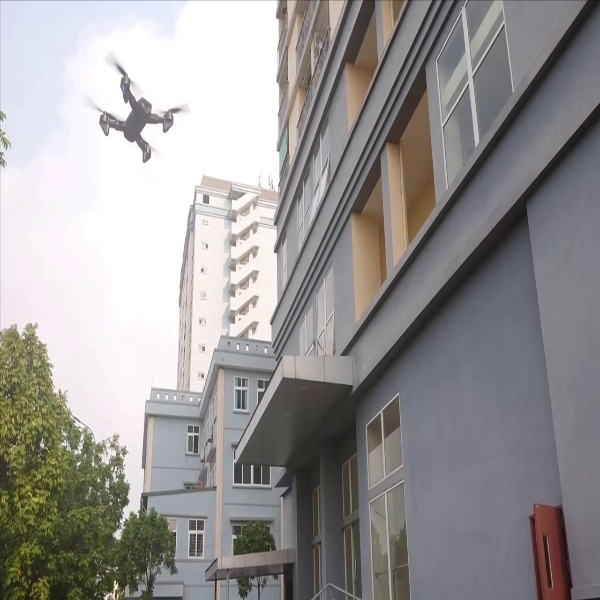drone: (81, 54, 191, 164)
